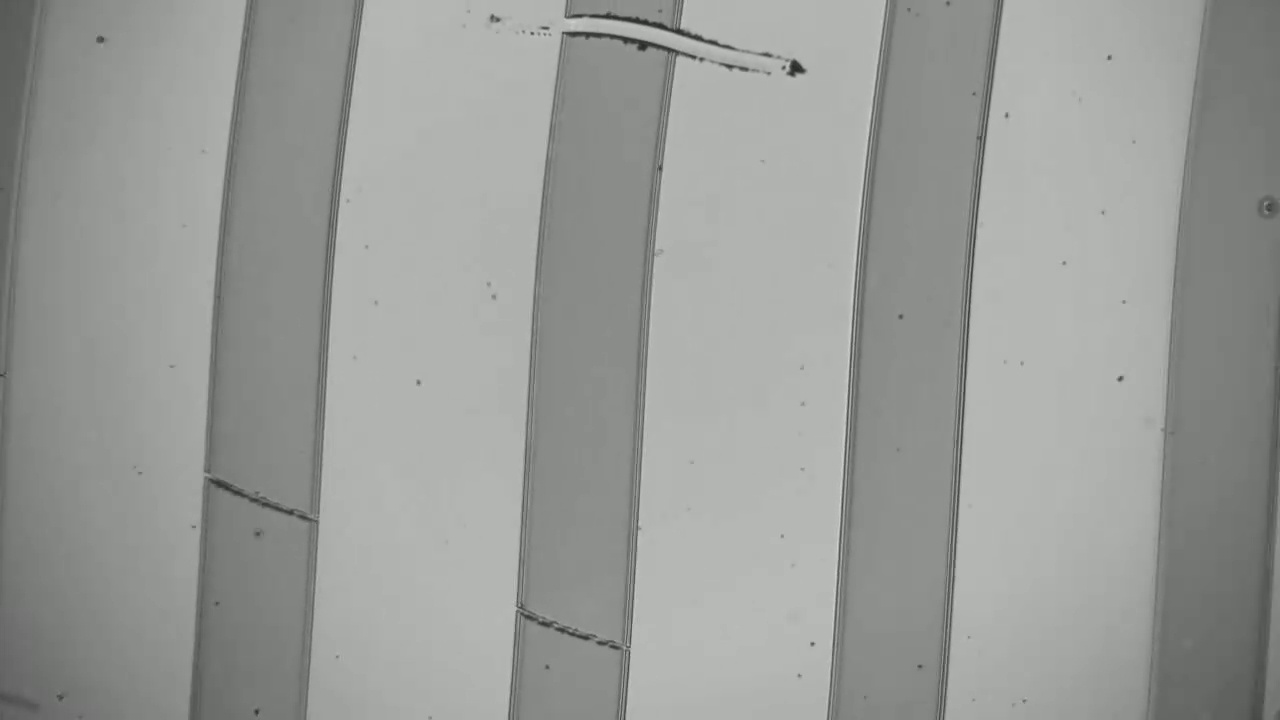Short_circuit: (536, 14, 714, 62), (214, 473, 300, 523), (528, 608, 614, 653)
